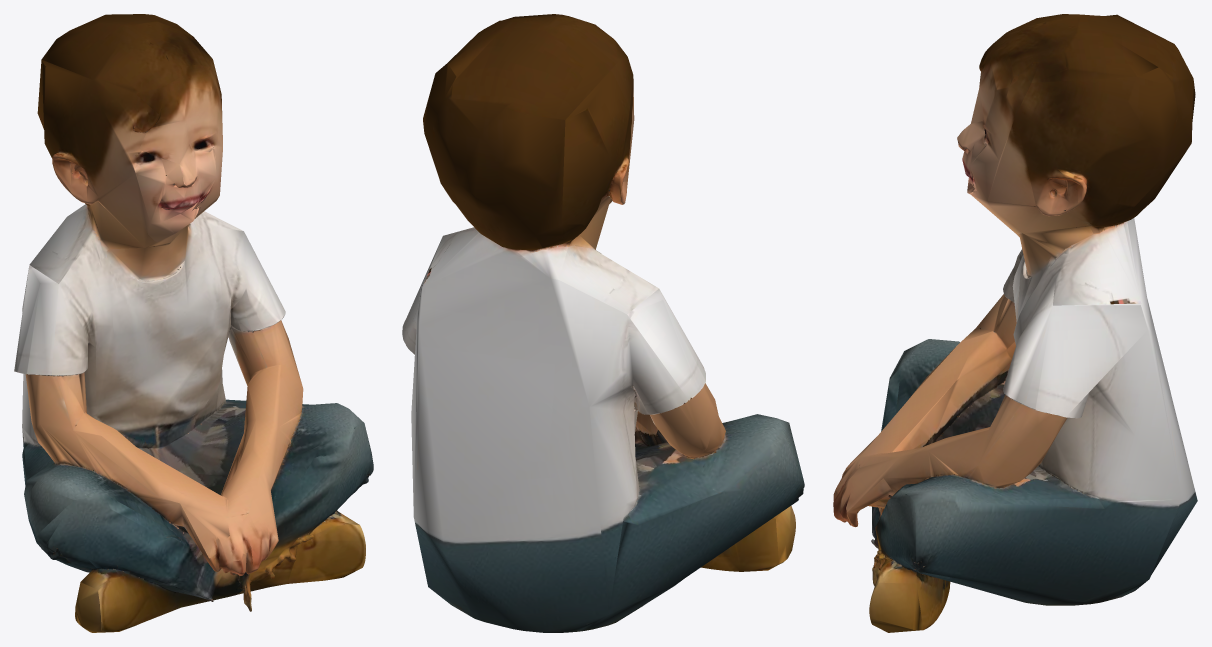
Rendered from childsit.glb.
3 views of the same model, side by side, from view 1: azimuth 30°, elevation 25°; view 2: azimuth 150°, elevation 25°; view 3: azimuth 270°, elevation 25° (orthographic). The views are drawn at different scales.
Parts seen in each view (by area): view 1: Object_2; view 2: Object_2; view 3: Object_2.
Part boxes in pixels (bbox=[...]): Object_2: bbox=[14, 14, 373, 632]; Object_2: bbox=[402, 14, 804, 632]; Object_2: bbox=[833, 14, 1197, 632].
Bounding box in the file's own units: 0.4832 × 0.72 × 0.4267.
1 material, 1 textured.
